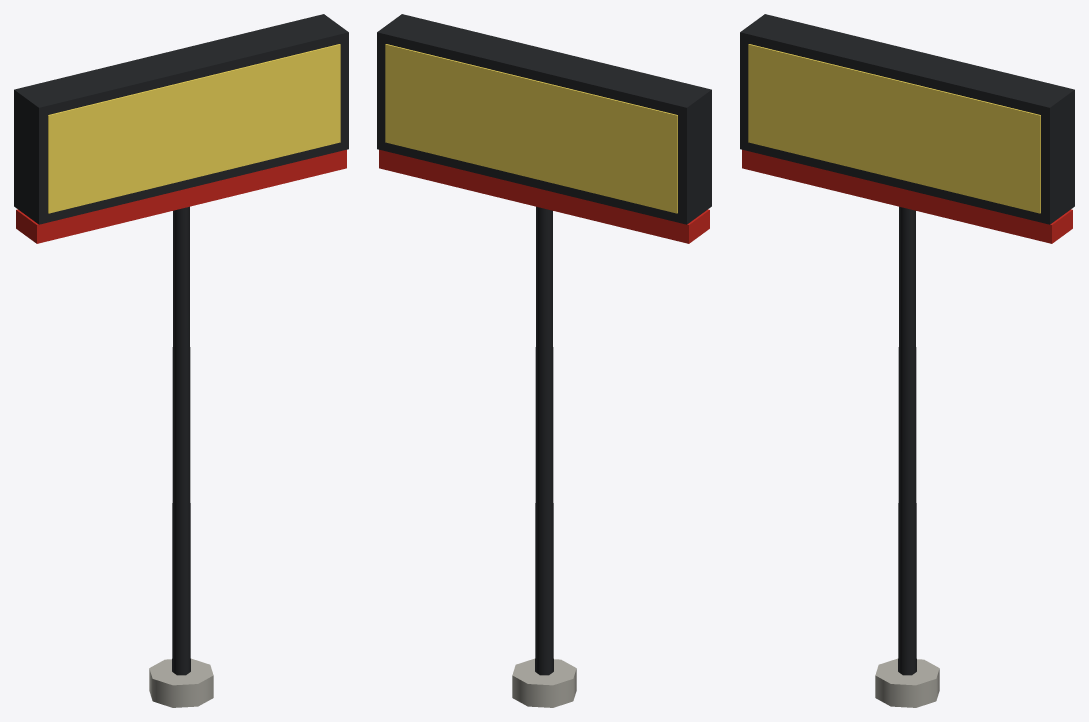
The model's file is light_box.glb.
The picture shows the model from 3 angles, left to right: view 1: azimuth 30°, elevation 25°; view 2: azimuth 150°, elevation 25°; view 3: azimuth 330°, elevation 25°; orthographic projection.
Parts seen in each view (by area): view 1: body; view 2: body; view 3: body.
Boxes of the visible parts, x1,y1,x2,y2 form: body: (14, 14, 348, 707); body: (377, 14, 711, 707); body: (740, 14, 1074, 707).
Bounding box in the file's own units: 1.72 × 3.36 × 0.32.
Materials: 1 (1 with a texture image).
